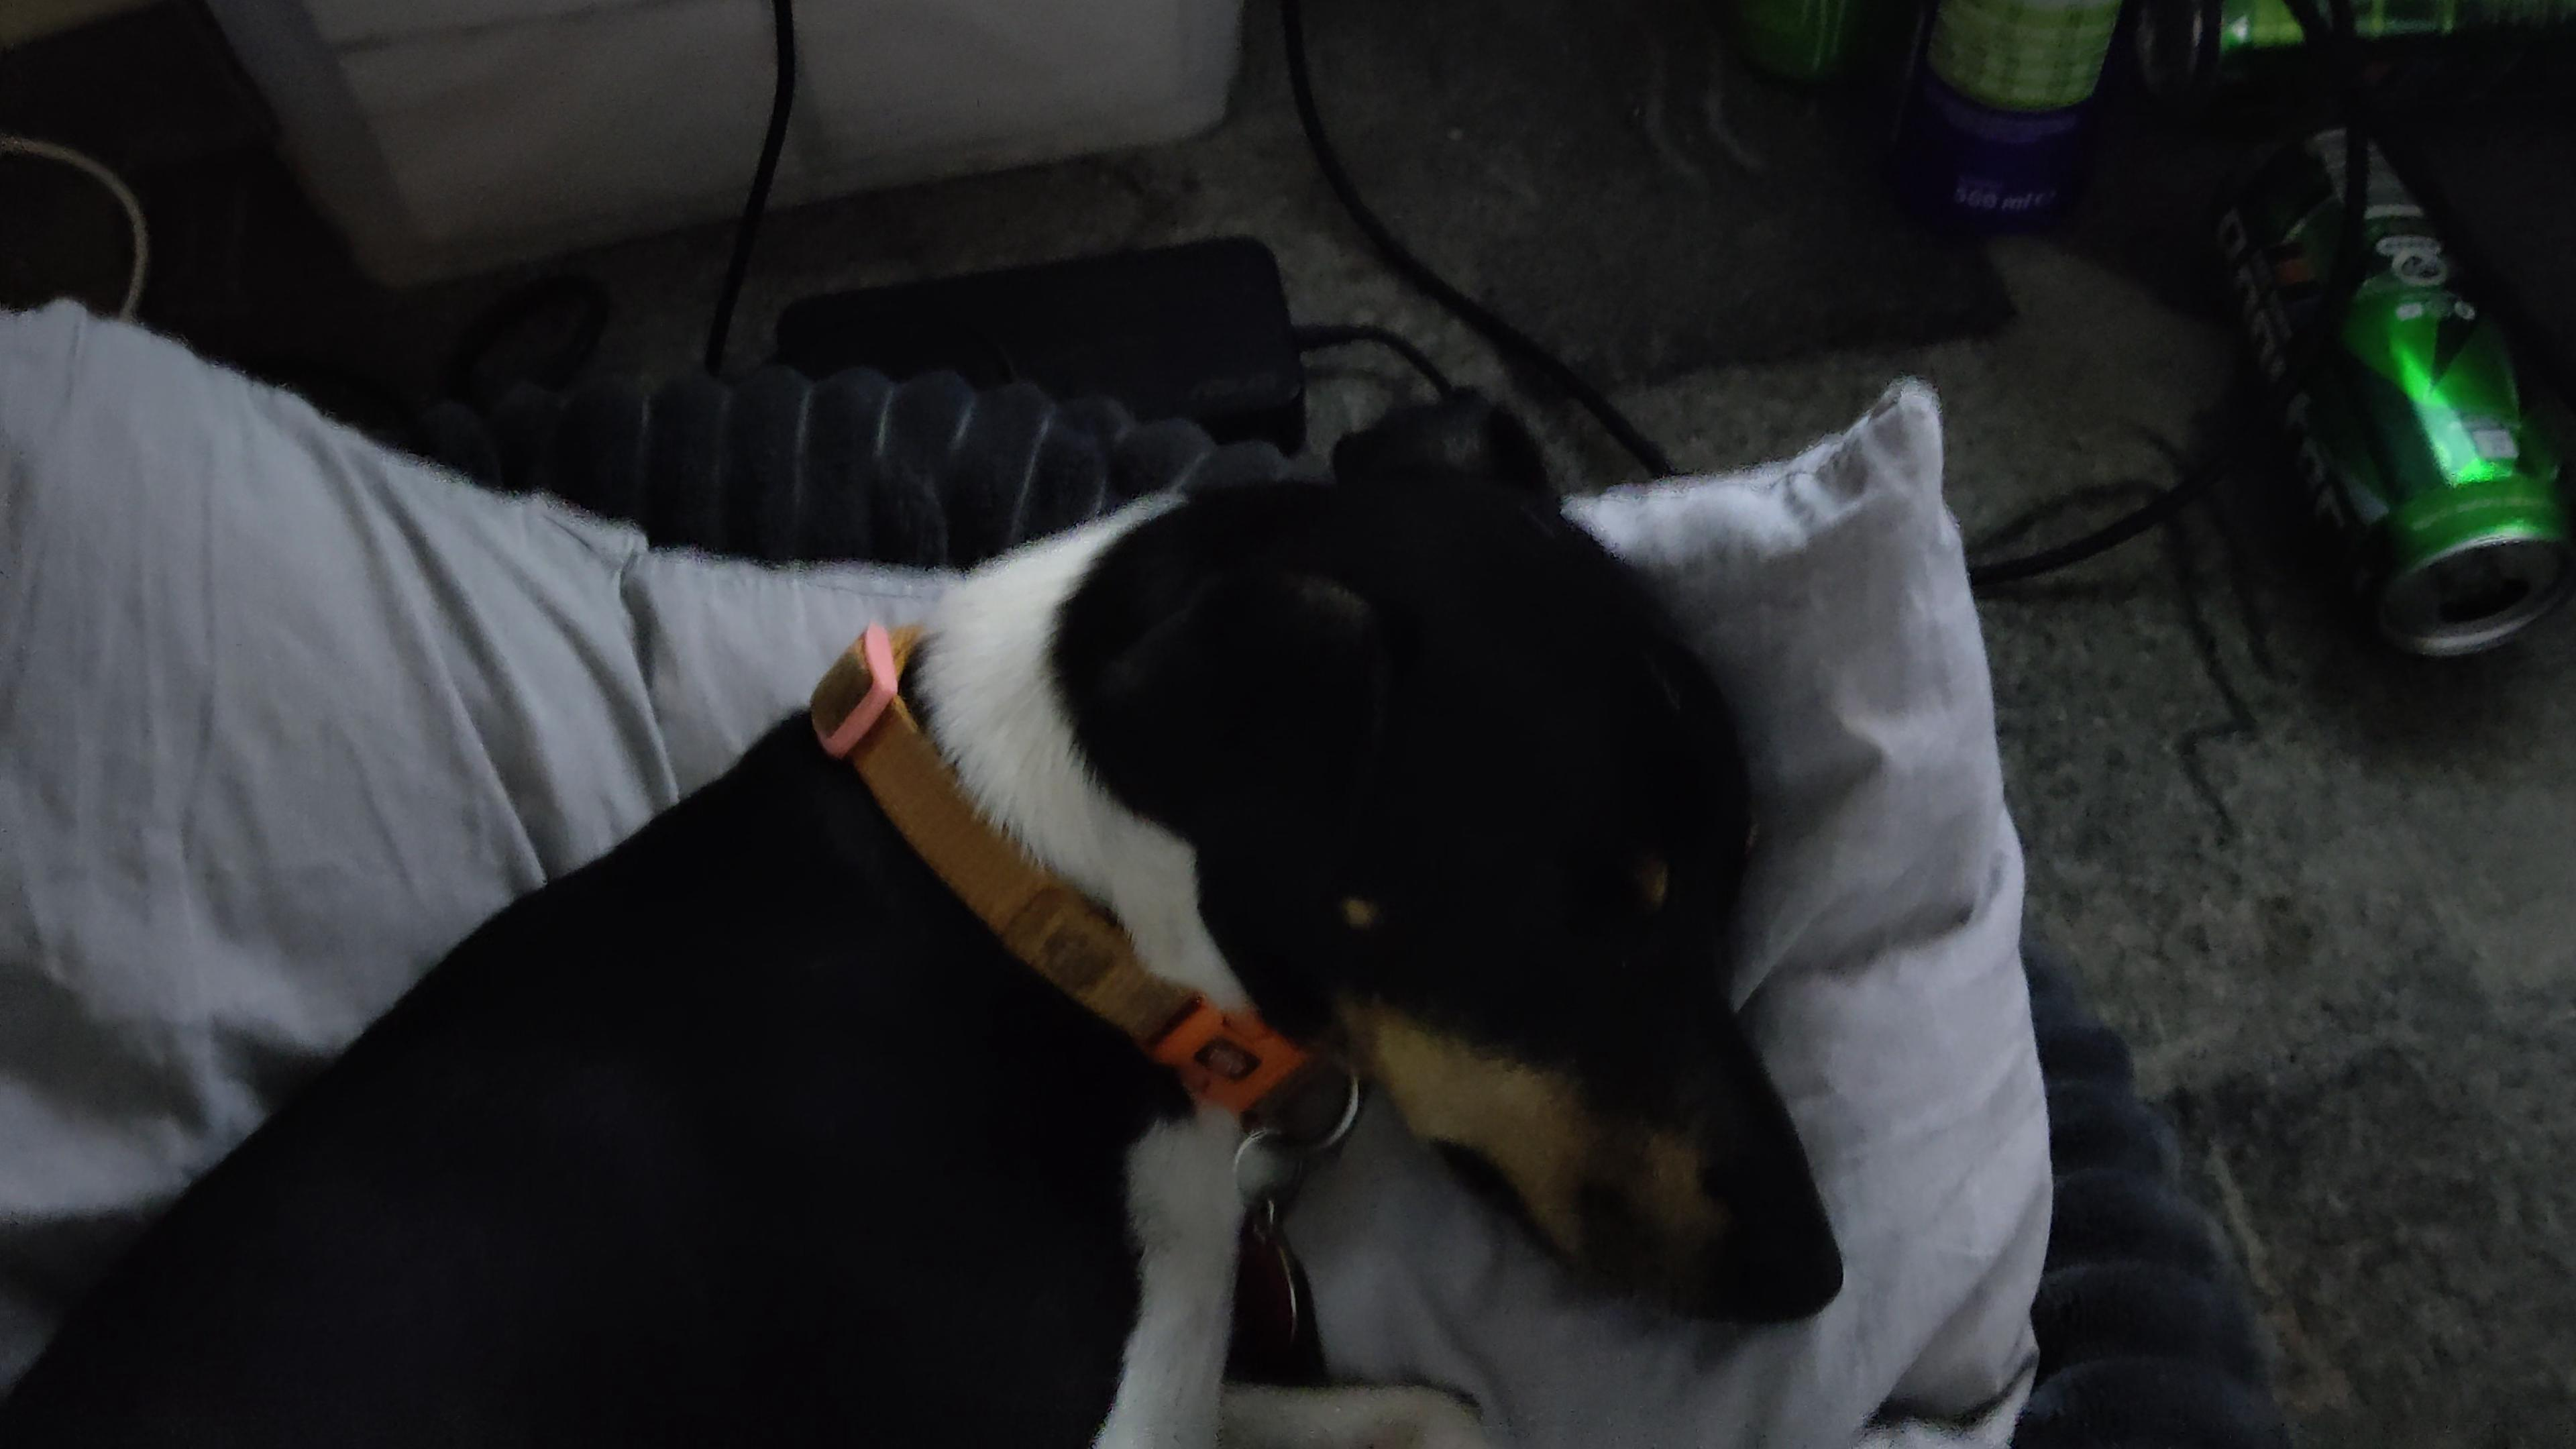Dog: (0, 380, 1858, 1449)
